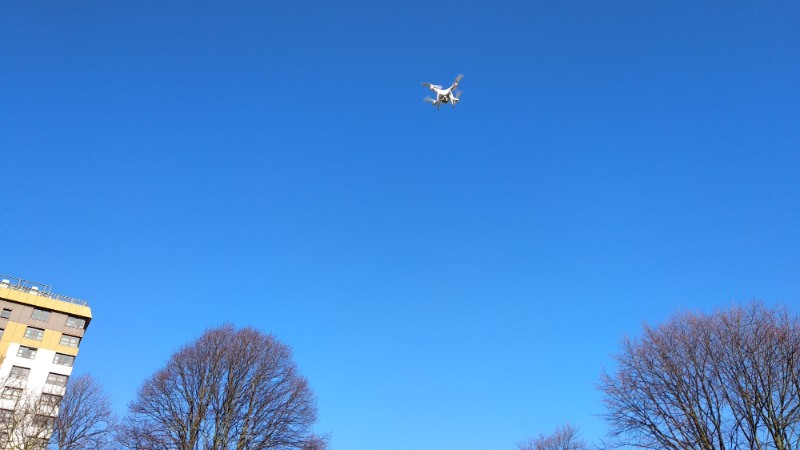drone: (420, 73, 465, 111)
